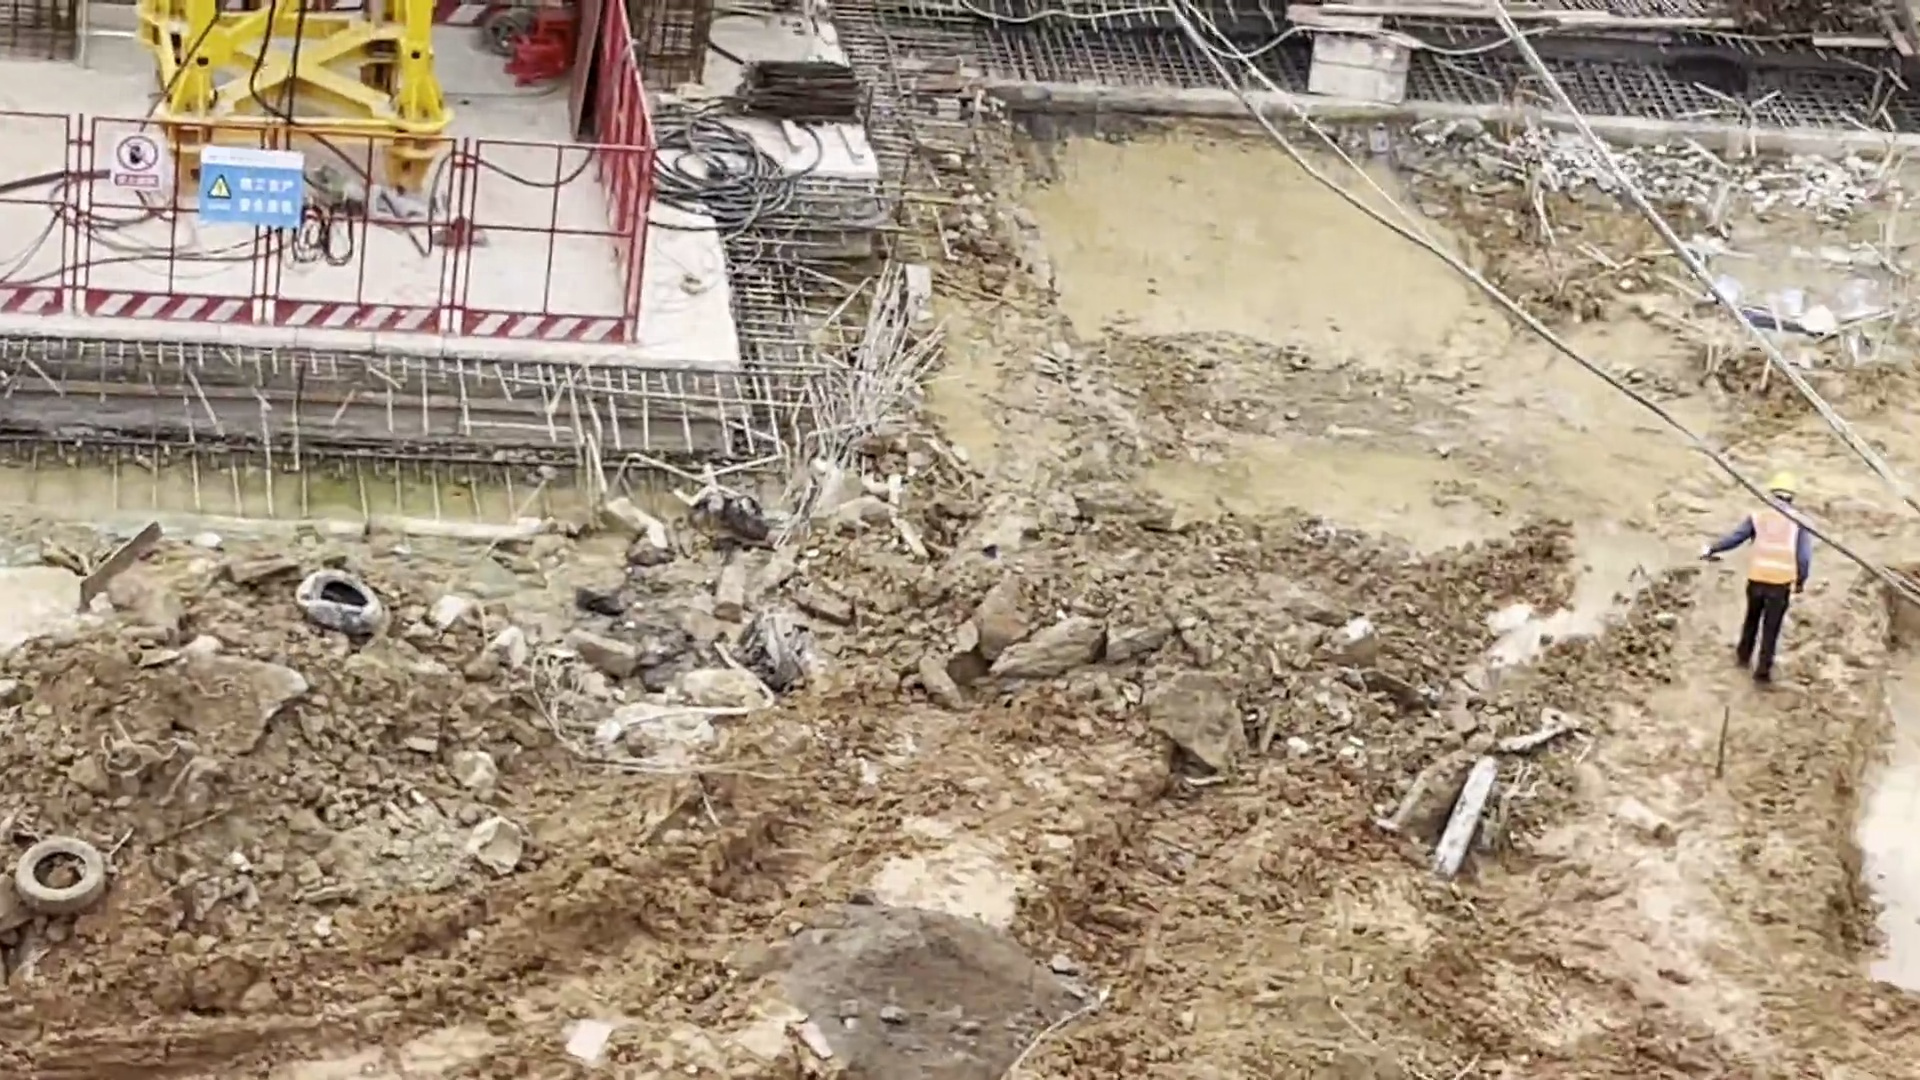fence: (1, 115, 630, 336), (589, 11, 650, 255)
helmet: (1767, 470, 1797, 495)
person: (1702, 474, 1808, 691)
slogan: (198, 150, 304, 221), (116, 136, 164, 187)
vest: (1741, 509, 1797, 586)
